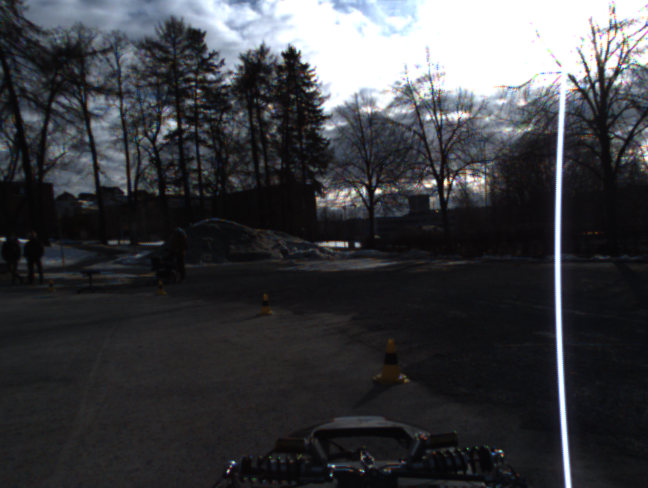cone-small-yellow: (373, 339, 411, 387), (257, 293, 274, 316), (154, 279, 168, 296), (46, 280, 56, 293)
